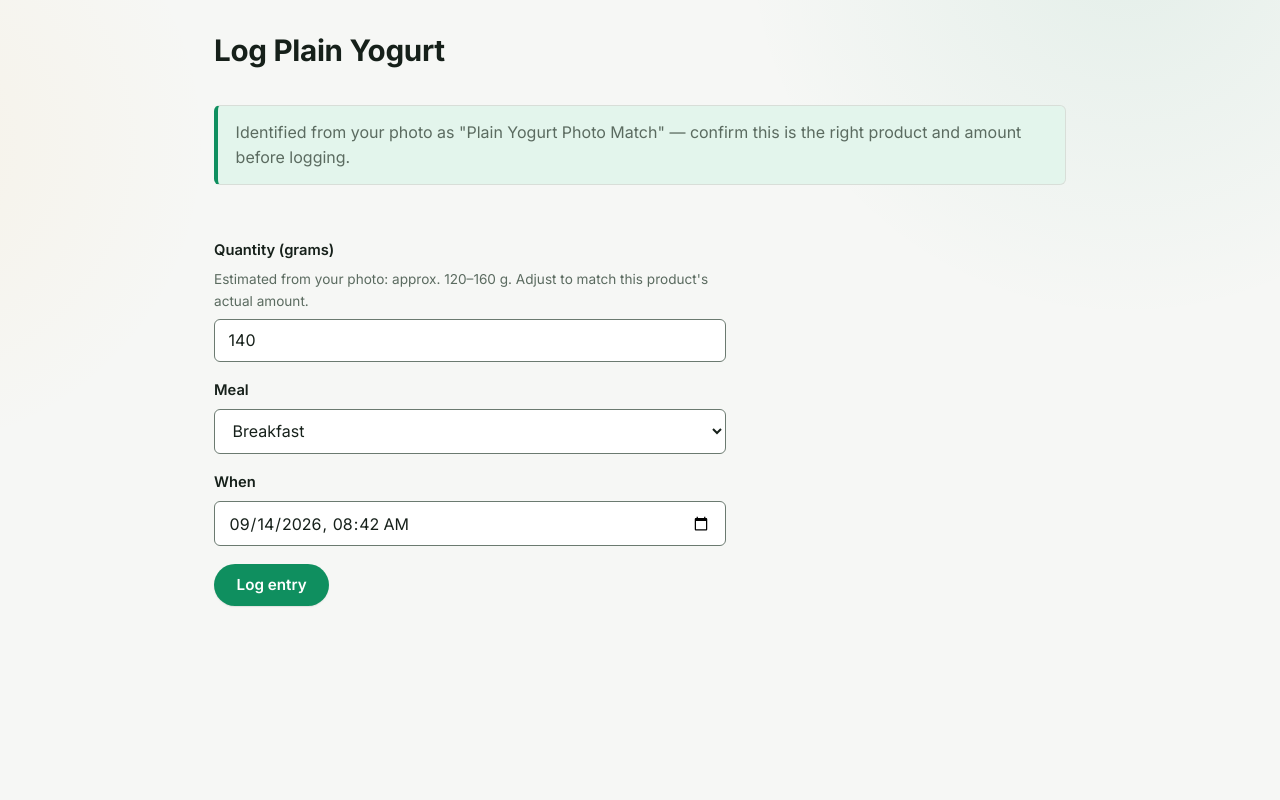
Test: LogFoodEntryForm › with aiContext: submits source.source_type=ai_detected, source_reference_id=analysisId, and macros from the MATCHED PRODUCT (never fabricated)
Click the button "Log entry".
click(272, 585)  # box x1=214 y1=564 x2=329 y2=606
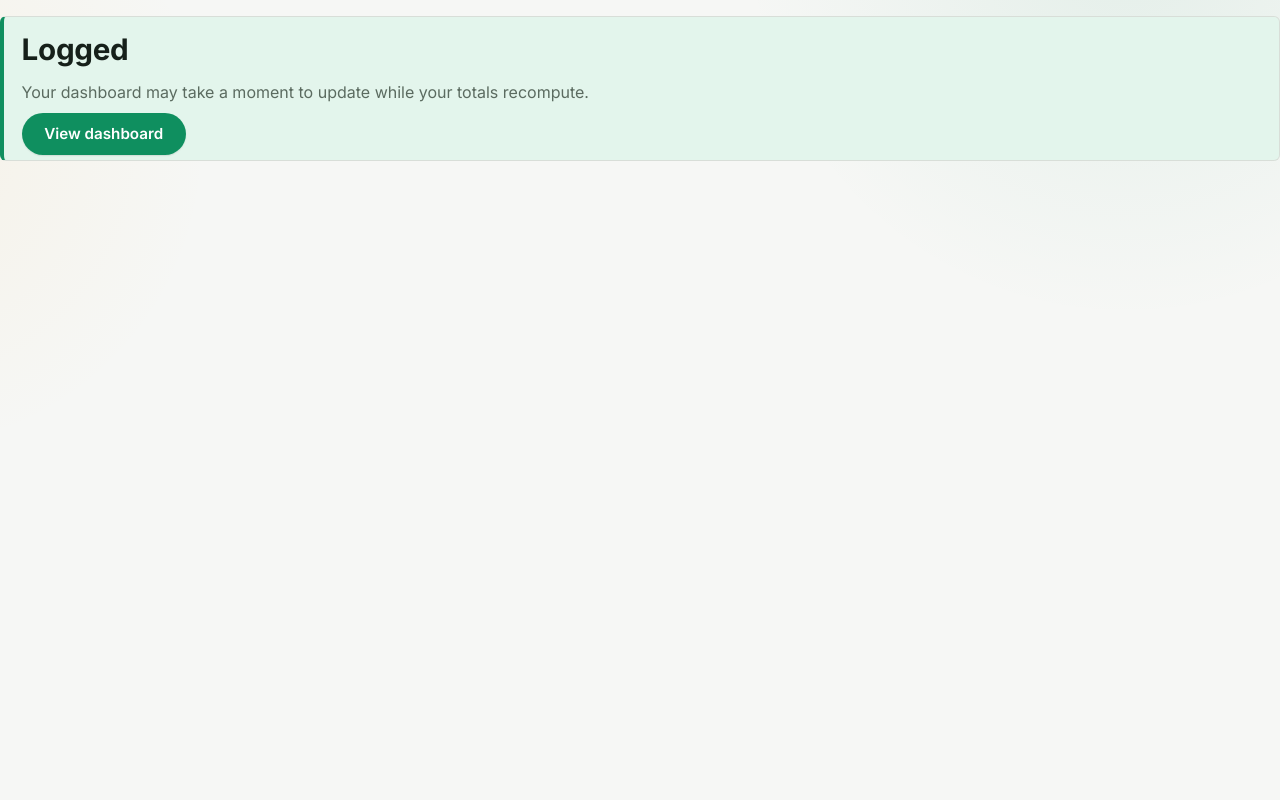
Now the text "may take a moment to update" is shown, box x1=22 y1=82 x2=589 y2=102
